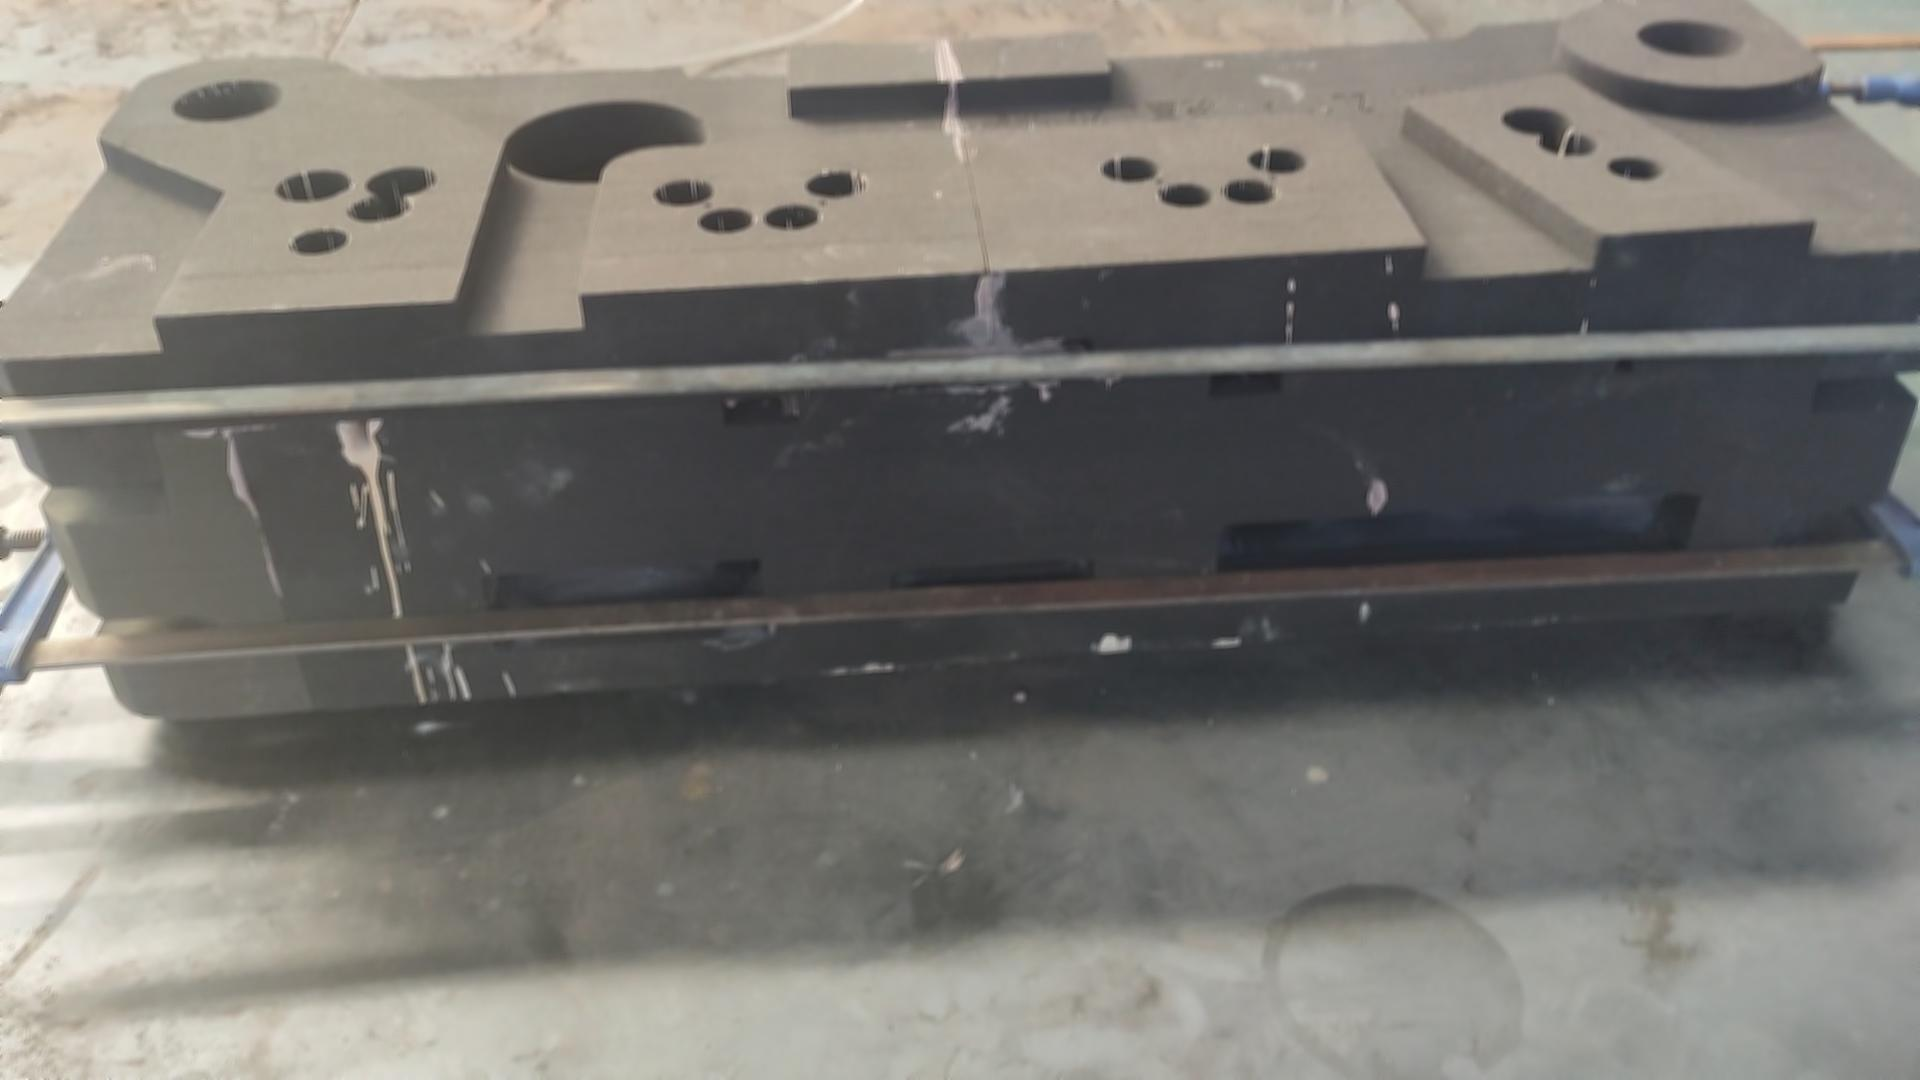pouring hole: (171, 79, 281, 121), (1639, 18, 1745, 57)
